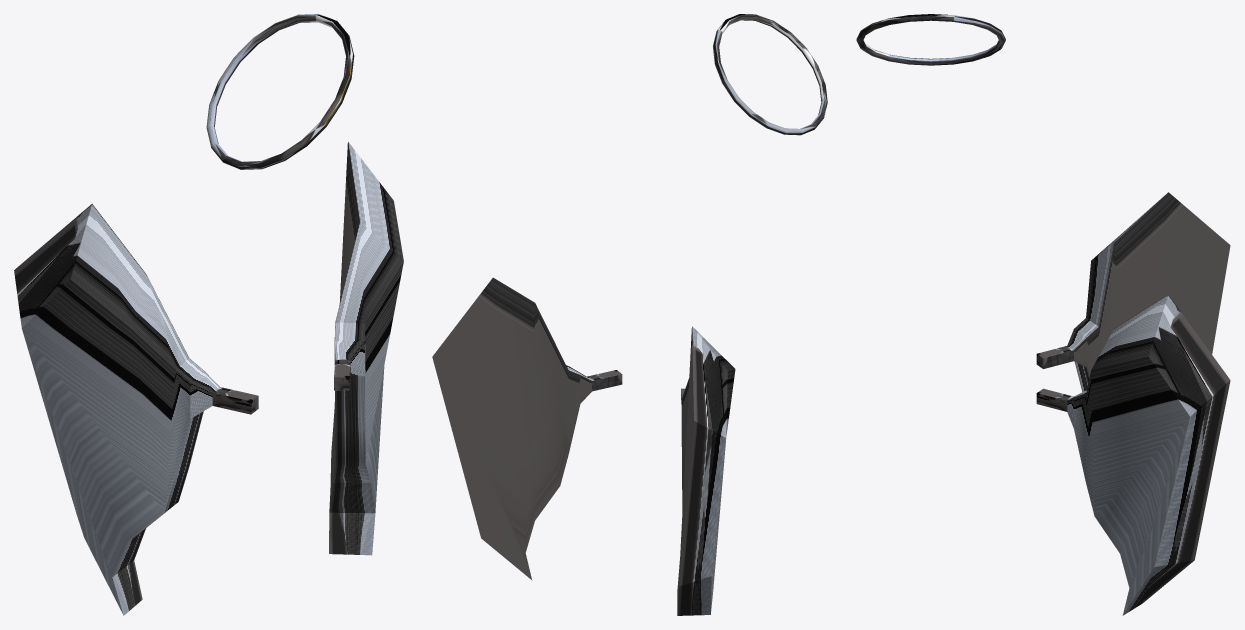
Rendered from angel.fbx.
3 views of the same model, side by side, from view 1: azimuth 30°, elevation 25°; view 2: azimuth 150°, elevation 25°; view 3: azimuth 270°, elevation 25° (orthographic). The views are drawn at different scales.
Visible parts, largest first — view 1: pCube1, pTorus1; view 2: pCube1, pTorus1; view 3: pCube1, pTorus1.
Boxes of the visible parts, <box> form: pCube1: <box>14,142,403,615</box>; pTorus1: <box>206,14,354,169</box>; pCube1: <box>432,277,735,615</box>; pTorus1: <box>713,14,827,135</box>; pCube1: <box>1036,192,1230,615</box>; pTorus1: <box>856,14,1005,65</box>.
Bounding box in the file's own units: 0.6478 × 1.1 × 0.6899.
